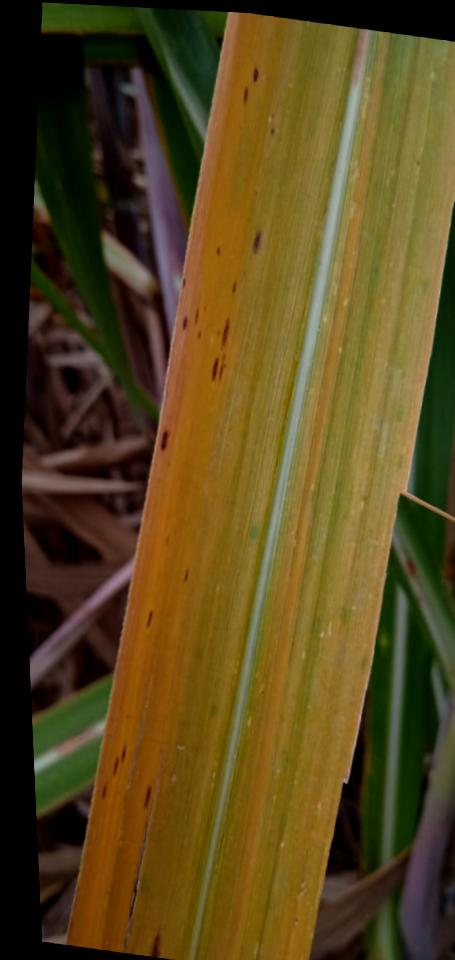Rust: (220, 316, 229, 350), (150, 931, 161, 957), (159, 427, 170, 453), (251, 232, 262, 256), (217, 351, 225, 383), (210, 356, 219, 384), (143, 785, 151, 810), (144, 609, 152, 630), (241, 83, 248, 105), (111, 757, 119, 775), (251, 66, 259, 84), (181, 312, 188, 332), (229, 278, 237, 294), (99, 781, 106, 799), (193, 307, 199, 326), (120, 743, 126, 761), (214, 244, 221, 257), (183, 570, 188, 583), (181, 276, 186, 289), (197, 329, 201, 341), (270, 127, 274, 135)
Yellow: (66, 12, 288, 960)
